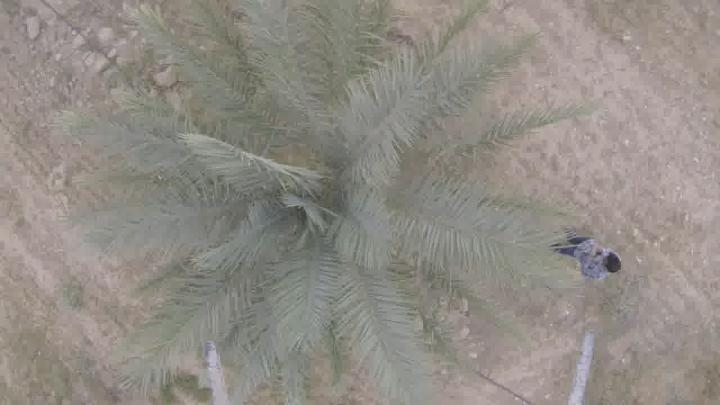Date-Palm-Crown: (174, 67, 476, 339)
